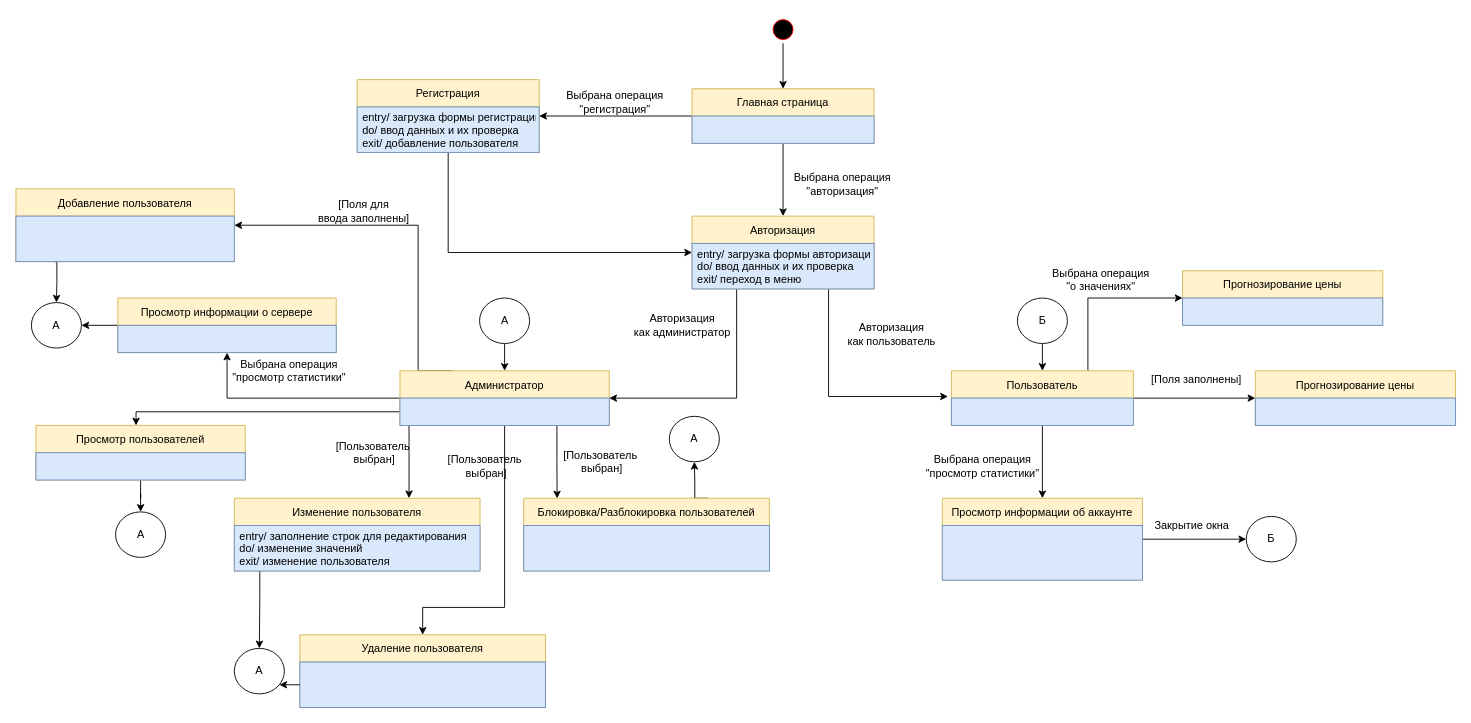
The diagram is 1471 pixels wide and 723 high, and some of its shapes have lost their labels. The centre of each missing label's shape, as x and y in pixels:
do/ выбор пункта "запуск" exit/ вывод результата пользователю: [1355,411]
do/ выбор пункта удаление exit/ пользователь удален: [422,684]
do/ выбор соответствующего пункта exit/ переход на форму администратора: [124,238]
do/ выбор соответствующего пункта exit/ пользователь заблок./разблок.: [646,548]
entry/ загрузка главной страницы: [782,129]
entry/ загрузка окна с информацией exit/ переход на форму администратора: [226,338]
entry/ загрузка списка пользователей: [140,466]
entry/ загрузка формы exit/ переход на панель пользователя: [1282,311]
entry/ загрузка формы администратора: [504,411]
entry/ загрузка формы пользователя: [1041,411]
entry/ загрузка формы со статистикой exit/ переход на панель пользователя: [1042,552]
